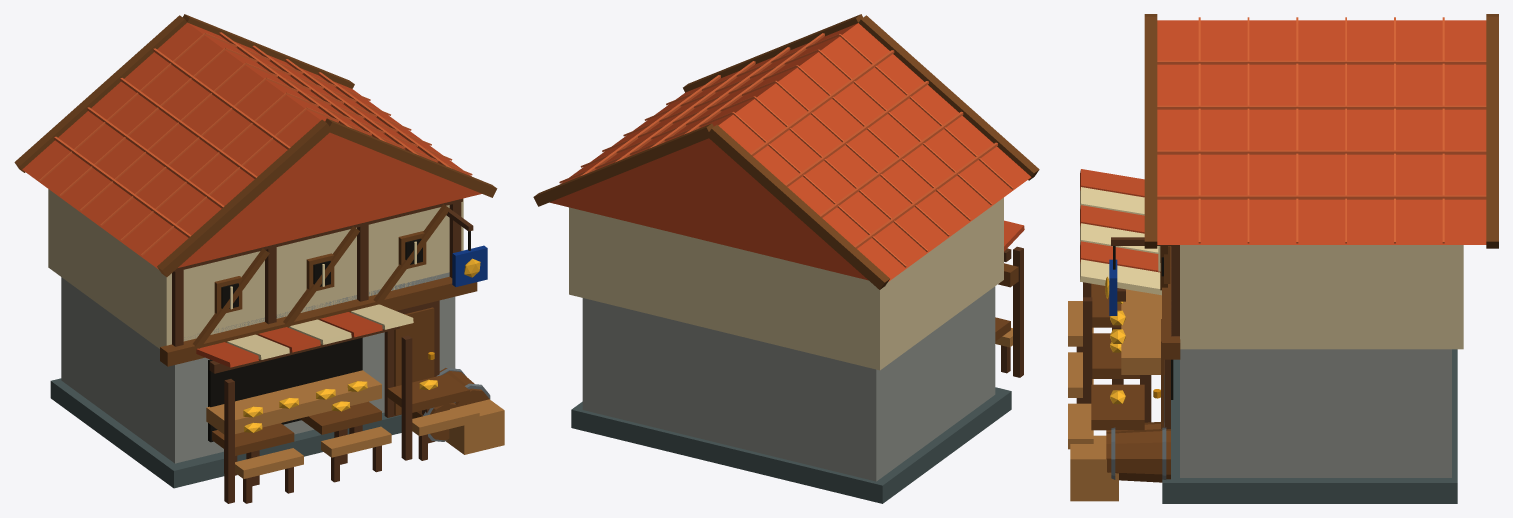
File: inn.glb
3 renders of one model, left to right at view 1: azimuth 30°, elevation 25°; view 2: azimuth 150°, elevation 25°; view 3: azimuth 270°, elevation 25°, orthographic. The views are drawn at different scales.
Parts seen in each view (by area): view 1: Awning stripe.002, Ale cask, Upper floor, Ground floor, Awning post.001, Tile course.002, Dining bench, Inn foundation, Inn sign chain, Awning stripe.001, Bread on counter.001, Inn sign; view 2: Awning stripe.002, Ground floor, Upper floor, Tile course.002, Ale cask, Inn foundation, Awning post.001; view 3: Awning stripe.002, Ground floor, Upper floor, Ale cask, Tile course.002, Inn foundation, Dining bench, Awning stripe.001, Awning post.001, Bread on counter.001, Cask band.001, Inn sign.
Boxes of the visible parts, x1=… form: Awning stripe.002: x1=22, y1=22, x2=481, y2=367; Ale cask: x1=14, y1=14, x2=497, y2=455; Upper floor: x1=48, y1=189, x2=463, y2=348; Ground floor: x1=61, y1=272, x2=455, y2=463; Awning post.001: x1=172, y1=198, x2=473, y2=503; Tile course.002: x1=39, y1=32, x2=472, y2=255; Dining bench: x1=206, y1=370, x2=504, y2=478; Inn foundation: x1=50, y1=378, x2=401, y2=488; Inn sign chain: x1=208, y1=231, x2=470, y2=442; Awning stripe.001: x1=227, y1=241, x2=416, y2=359; Bread on counter.001: x1=243, y1=258, x2=480, y2=432; Inn sign: x1=452, y1=245, x2=487, y2=286; Awning stripe.002: x1=549, y1=23, x2=1031, y2=281; Ground floor: x1=582, y1=286, x2=995, y2=481; Upper floor: x1=569, y1=197, x2=1003, y2=370; Tile course.002: x1=559, y1=33, x2=1013, y2=267; Ale cask: x1=533, y1=14, x2=1039, y2=341; Inn foundation: x1=571, y1=387, x2=1011, y2=503; Awning post.001: x1=1001, y1=246, x2=1023, y2=377; Awning stripe.002: x1=1080, y1=20, x2=1486, y2=272; Ground floor: x1=1180, y1=349, x2=1451, y2=477; Upper floor: x1=1180, y1=245, x2=1463, y2=349; Ale cask: x1=1091, y1=14, x2=1498, y2=482; Tile course.002: x1=1157, y1=17, x2=1486, y2=243; Inn foundation: x1=1162, y1=349, x2=1457, y2=503; Dining bench: x1=1068, y1=289, x2=1164, y2=501; Awning stripe.001: x1=1080, y1=187, x2=1161, y2=295; Awning post.001: x1=1076, y1=237, x2=1179, y2=429; Bread on counter.001: x1=1105, y1=276, x2=1125, y2=403; Cask band.001: x1=1111, y1=420, x2=1166, y2=479; Inn sign: x1=1109, y1=259, x2=1117, y2=315.
Size of the model in its own units: 4.01 by 3.83 by 3.72.
